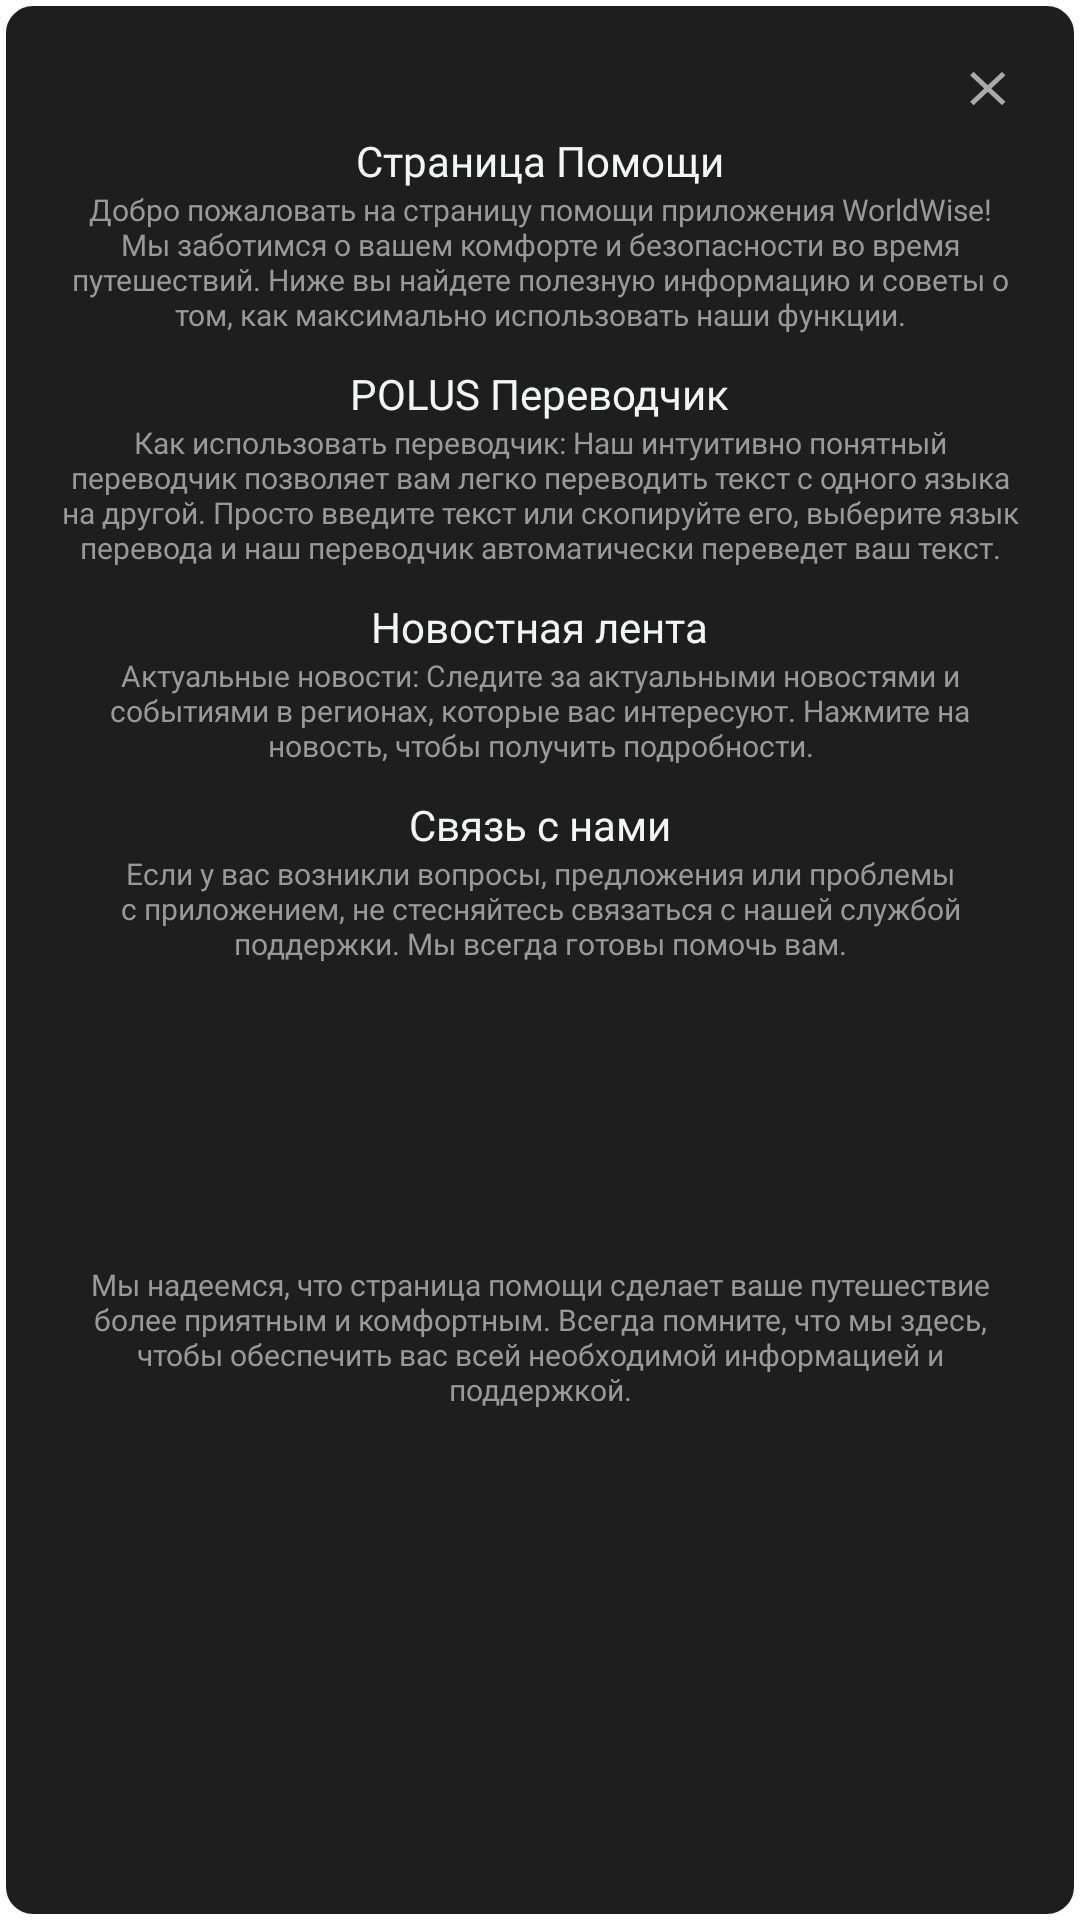

Icons on this 1080 x 1920 Android screen, each with the point to tap as point (x, y):
close: point (988, 88)
